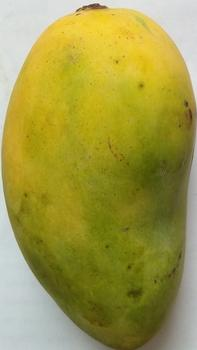PartiallyRipe: (0, 1, 197, 350)
